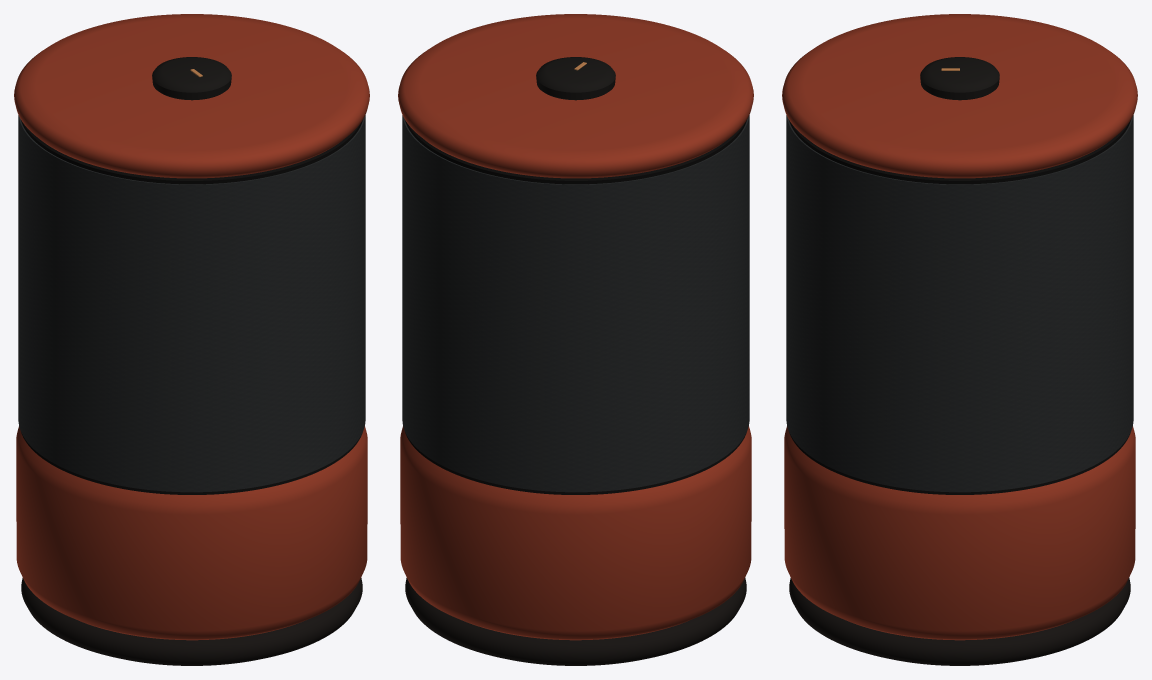
Rendered from sonora-s1-v2.glb.
3 renders of one model, left to right at view 1: azimuth 30°, elevation 25°; view 2: azimuth 150°, elevation 25°; view 3: azimuth 270°, elevation 25°, orthographic.
Visible parts, largest first — view 1: grille, shell, base, knob; view 2: grille, shell, base, knob; view 3: grille, shell, base, knob.
Part boxes in pixels (left/top/right/bottom): grille: left=18, top=115, right=365, bottom=494; shell: left=14, top=14, right=369, bottom=640; base: left=21, top=578, right=362, bottom=665; knob: left=152, top=57, right=231, bottom=100; grille: left=402, top=115, right=749, bottom=494; shell: left=398, top=14, right=753, bottom=640; base: left=405, top=578, right=746, bottom=665; knob: left=536, top=57, right=615, bottom=100; grille: left=786, top=115, right=1133, bottom=494; shell: left=782, top=14, right=1137, bottom=640; base: left=789, top=578, right=1130, bottom=665; knob: left=920, top=57, right=999, bottom=100.
Size of the model in its own units: 1 by 1.65 by 1.
Materials: 7 (1 with a texture image).
